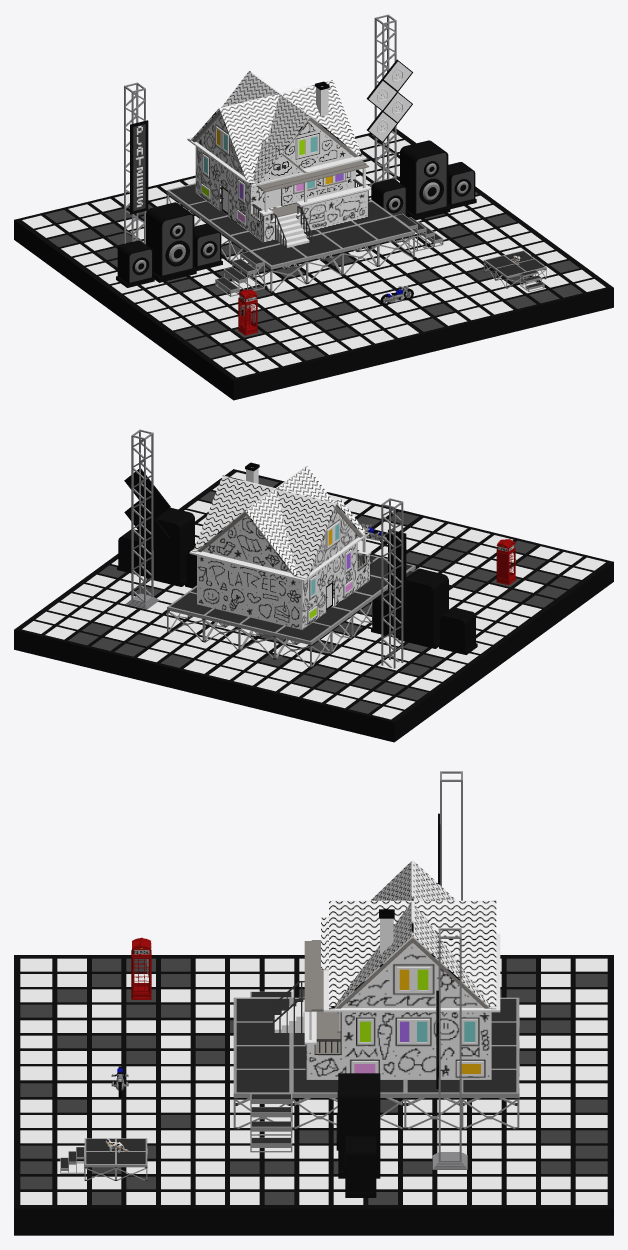
3 views of the same model, one above another, from view 1: azimuth 30°, elevation 25°; view 2: azimuth 150°, elevation 25°; view 3: azimuth 270°, elevation 25° (orthographic). The views are drawn at different scales.
Visible parts, largest first — view 1: Cube.008, Cube.879, OBJRANDOM_PHONEBOOTH; view 2: Cube.008, Cube.879, OBJRANDOM_PHONEBOOTH; view 3: Cube.008, Cube.879, OBJRANDOM_PHONEBOOTH.
Part boxes in pixels (x1=…): Cube.008: x1=14, y1=14, x2=613, y2=400; Cube.879: x1=187, y1=71, x2=371, y2=248; OBJRANDOM_PHONEBOOTH: x1=238, y1=289, x2=257, y2=335; Cube.008: x1=14, y1=429, x2=613, y2=742; Cube.879: x1=189, y1=462, x2=372, y2=629; OBJRANDOM_PHONEBOOTH: x1=496, y1=539, x2=516, y2=585; Cube.008: x1=14, y1=771, x2=613, y2=1235; Cube.879: x1=272, y1=860, x2=500, y2=1079; OBJRANDOM_PHONEBOOTH: x1=131, y1=937, x2=151, y2=999.
Size of the model in its own units: 4000 by 1980 by 4000.
Materials: 45 (8 with a texture image).
